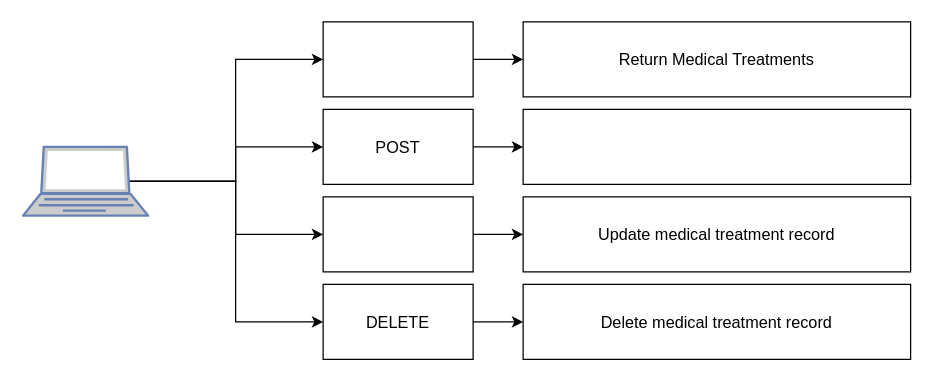
This 933x381 diagram has some shape labels left out. Each missing label, with the centre of its shape:
"Add new medical treatment" goes at (716,146).
"GET" goes at (397,59).
"PUT" goes at (397,234).
